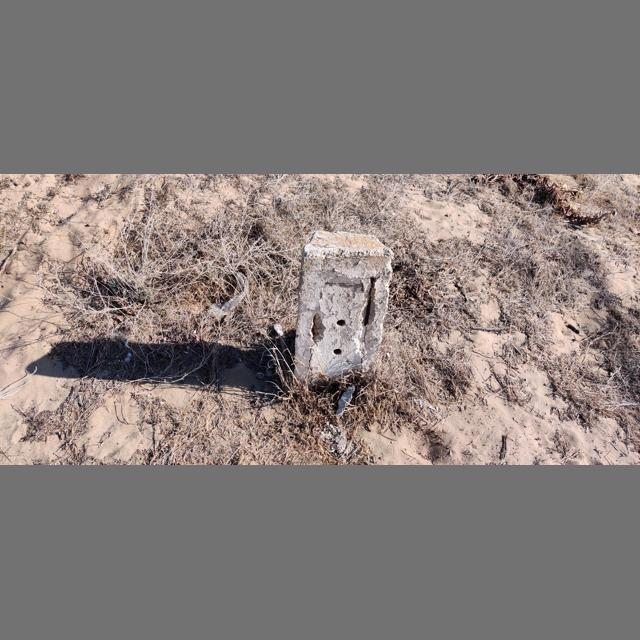litter: (208, 273, 248, 317), (273, 325, 283, 336)
